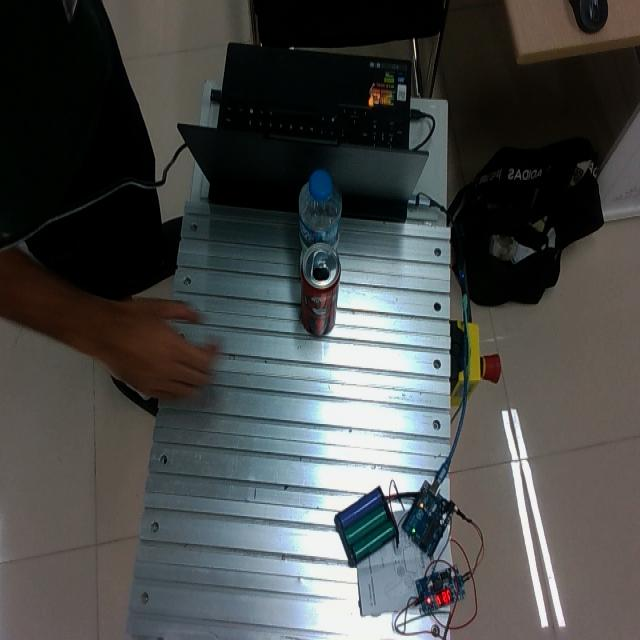coca: (300, 240, 342, 336)
lavie: (299, 168, 343, 255)
